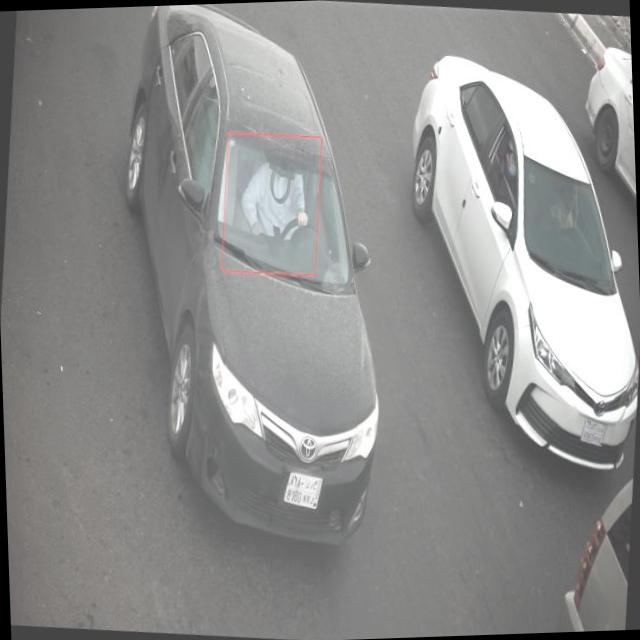person_without_seatbelt: (237, 142, 314, 262)
